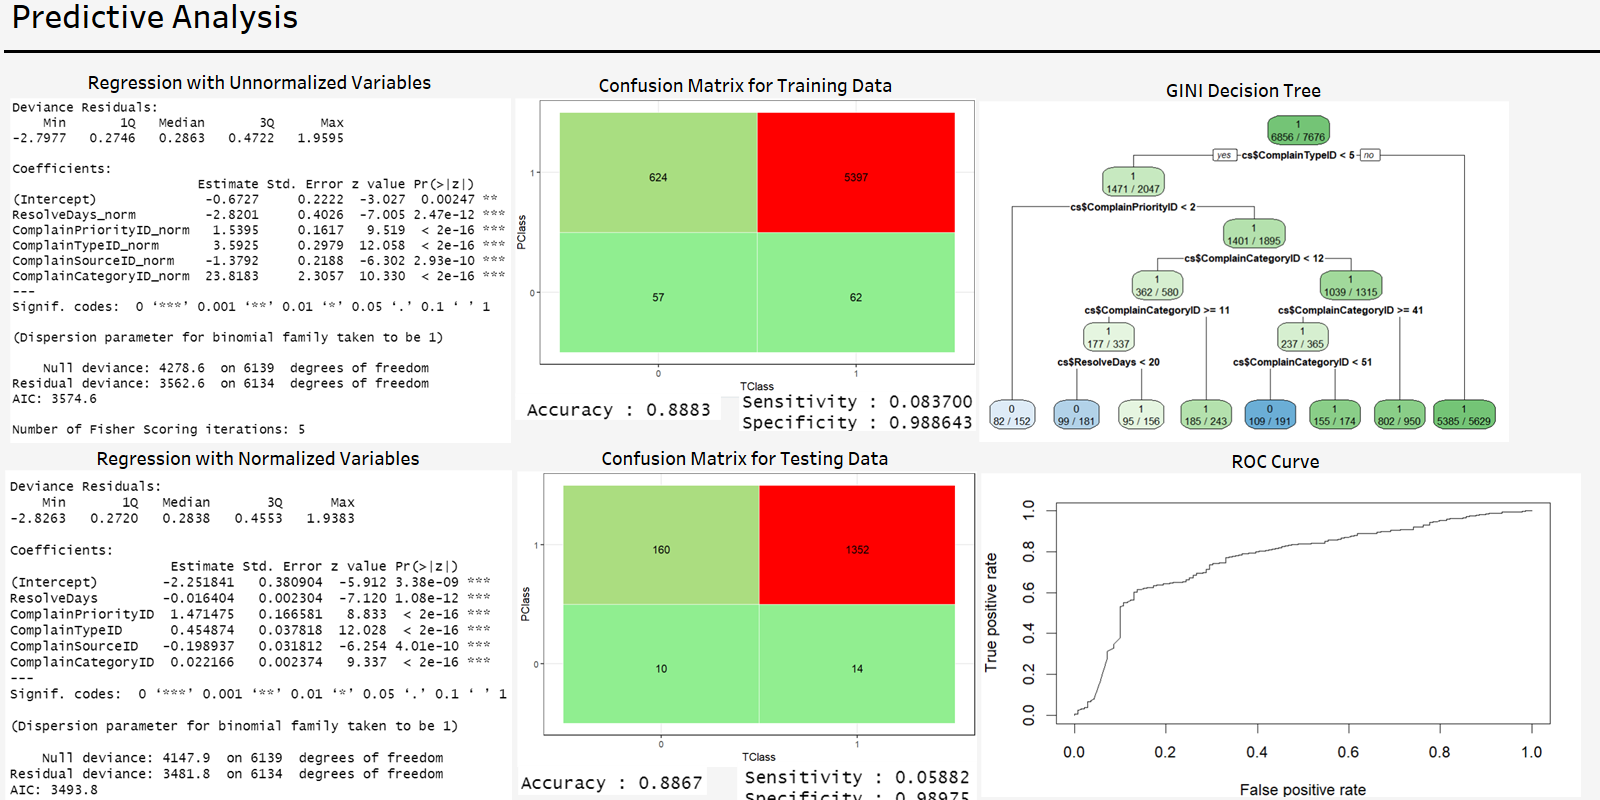

What the dashboard file says about the page in this screenshot:
{"tool":"tableau","page":{"name":"Predictive Analysis","canvas":[1600,800],"ordinal":2},"visuals":[{"type":"blank","box":[4,50,1600,3]},{"type":"text","box":[9,67,501,30]},{"type":"image","param":"Image/Conf_mat2.png","box":[515,68,461,360]},{"type":"image","param":"Image/logistic_reg2.png","box":[10,70,501,401]},{"type":"text","box":[515,70,461,30]},{"type":"text","box":[977,75,533,30]},{"type":"image","param":"Image/Decision Tree.png","box":[979,101,621,341]},{"type":"image","param":"Image/ac2.png","box":[515,363,206,88]},{"type":"image","param":"Image/sp2.png","box":[685,391,345,40]},{"type":"text","box":[6,443,504,30]},{"type":"text","box":[518,443,454,30]},{"type":"text","box":[978,446,595,30]}]}

Visuals, with their boxes in screenshot pixels (x1, y1, x2, y2), scaled from the page's 1600x800 canvas onto the 1600x800 screenshot:
blank: crop(4, 50, 1599, 53)
text: crop(9, 67, 510, 97)
image: crop(515, 68, 976, 428)
image: crop(10, 70, 511, 471)
text: crop(515, 70, 976, 100)
text: crop(977, 75, 1510, 105)
image: crop(979, 101, 1599, 442)
image: crop(515, 363, 721, 451)
image: crop(685, 391, 1030, 431)
text: crop(6, 443, 510, 473)
text: crop(518, 443, 972, 473)
text: crop(978, 446, 1573, 476)
